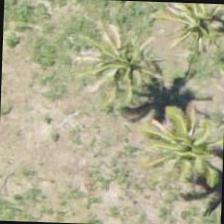Kelapa_Sawit: (80, 17, 173, 110), (149, 99, 223, 192), (152, 1, 223, 54)
